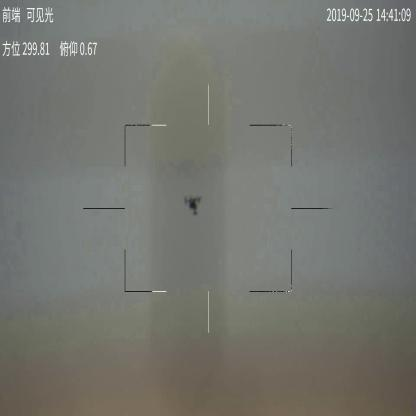uav: (181, 193, 204, 216)
